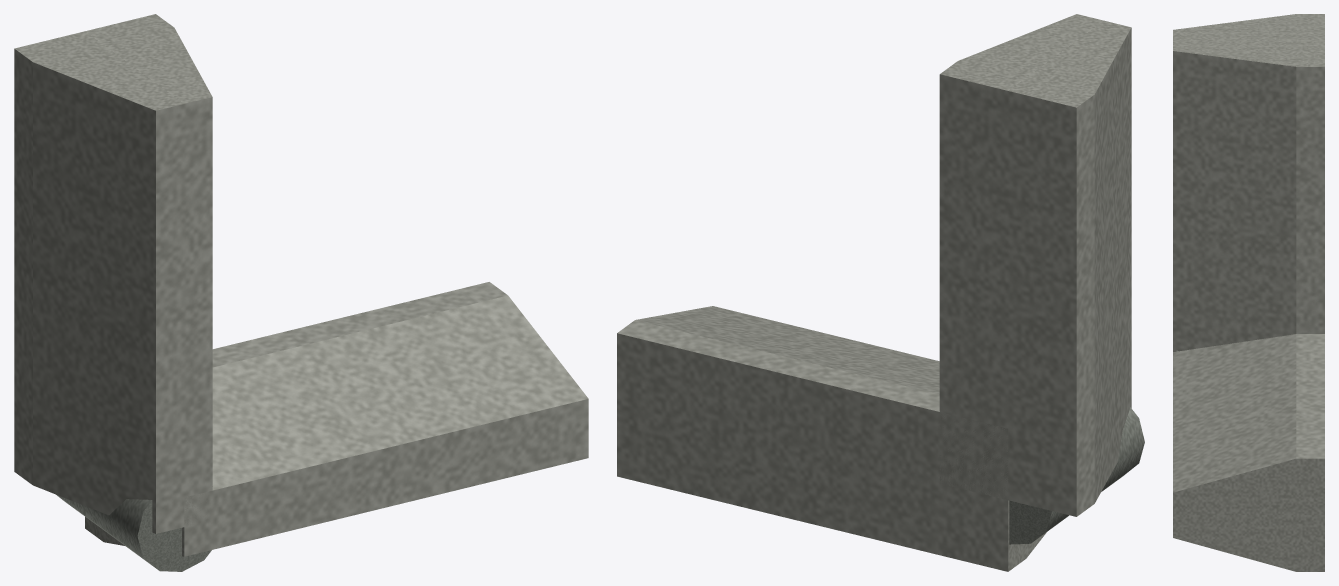
Rendered from Jersey_Barrier_Corner90.glb.
The picture shows the model from 3 angles, left to right: view 1: azimuth 30°, elevation 25°; view 2: azimuth 150°, elevation 25°; view 3: azimuth 270°, elevation 25°; orthographic projection. The views are drawn at different scales.
Visible parts, largest first — view 1: Jersey_Barrier_Corner90__ARM_Y_2M, Jersey_Barrier_Corner90__ARM_X_2M, Jersey_Barrier_Corner90__CORNER_JOINT_COVER; view 2: Jersey_Barrier_Corner90__ARM_Y_2M, Jersey_Barrier_Corner90__ARM_X_2M, Jersey_Barrier_Corner90__CORNER_JOINT_COVER; view 3: Jersey_Barrier_Corner90__ARM_Y_2M, Jersey_Barrier_Corner90__ARM_X_2M.
Boxes of the visible parts, x1,y1,x2,y2 form: Jersey_Barrier_Corner90__ARM_Y_2M: (14,14,212,533); Jersey_Barrier_Corner90__ARM_X_2M: (85,282,588,556); Jersey_Barrier_Corner90__CORNER_JOINT_COVER: (56,494,211,571); Jersey_Barrier_Corner90__ARM_Y_2M: (939,14,1131,516); Jersey_Barrier_Corner90__ARM_X_2M: (617,306,1046,571); Jersey_Barrier_Corner90__CORNER_JOINT_COVER: (1009,407,1144,544); Jersey_Barrier_Corner90__ARM_Y_2M: (1173,14,1324,351); Jersey_Barrier_Corner90__ARM_X_2M: (1173,334,1324,571).
Bounding box in the file's own units: 2.35 × 2.35 × 0.85.
Materials: 2 (2 with a texture image).
